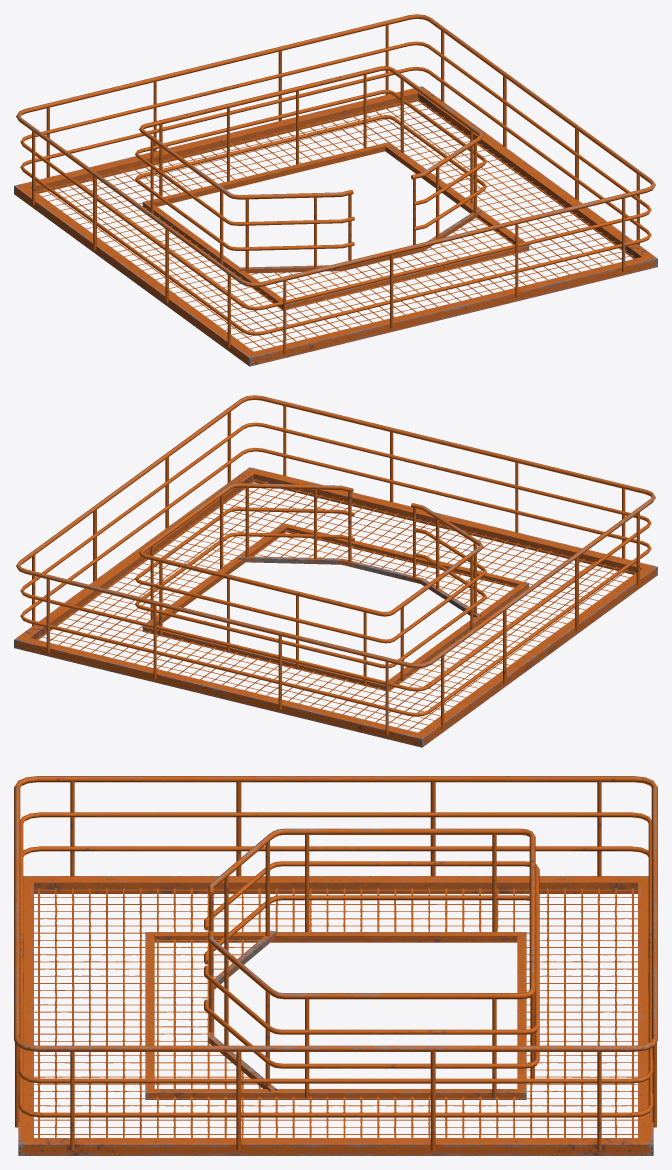
Rendered from Platform_03.fbx.
The picture shows the model from 3 angles, top to bottom: view 1: azimuth 30°, elevation 25°; view 2: azimuth 150°, elevation 25°; view 3: azimuth 270°, elevation 25°; orthographic projection. The views are drawn at different scales.
Visible parts, largest first — view 1: Platform_03_LOD0; view 2: Platform_03_LOD0; view 3: Platform_03_LOD0.
Part boxes in pixels (box(x1,y1,x2,y2)): Platform_03_LOD0: box(14, 14, 657, 366); Platform_03_LOD0: box(14, 395, 657, 747); Platform_03_LOD0: box(14, 776, 657, 1155).
Size of what is drawn, in the model's own units: 5.15 by 0.9717 by 5.15.
